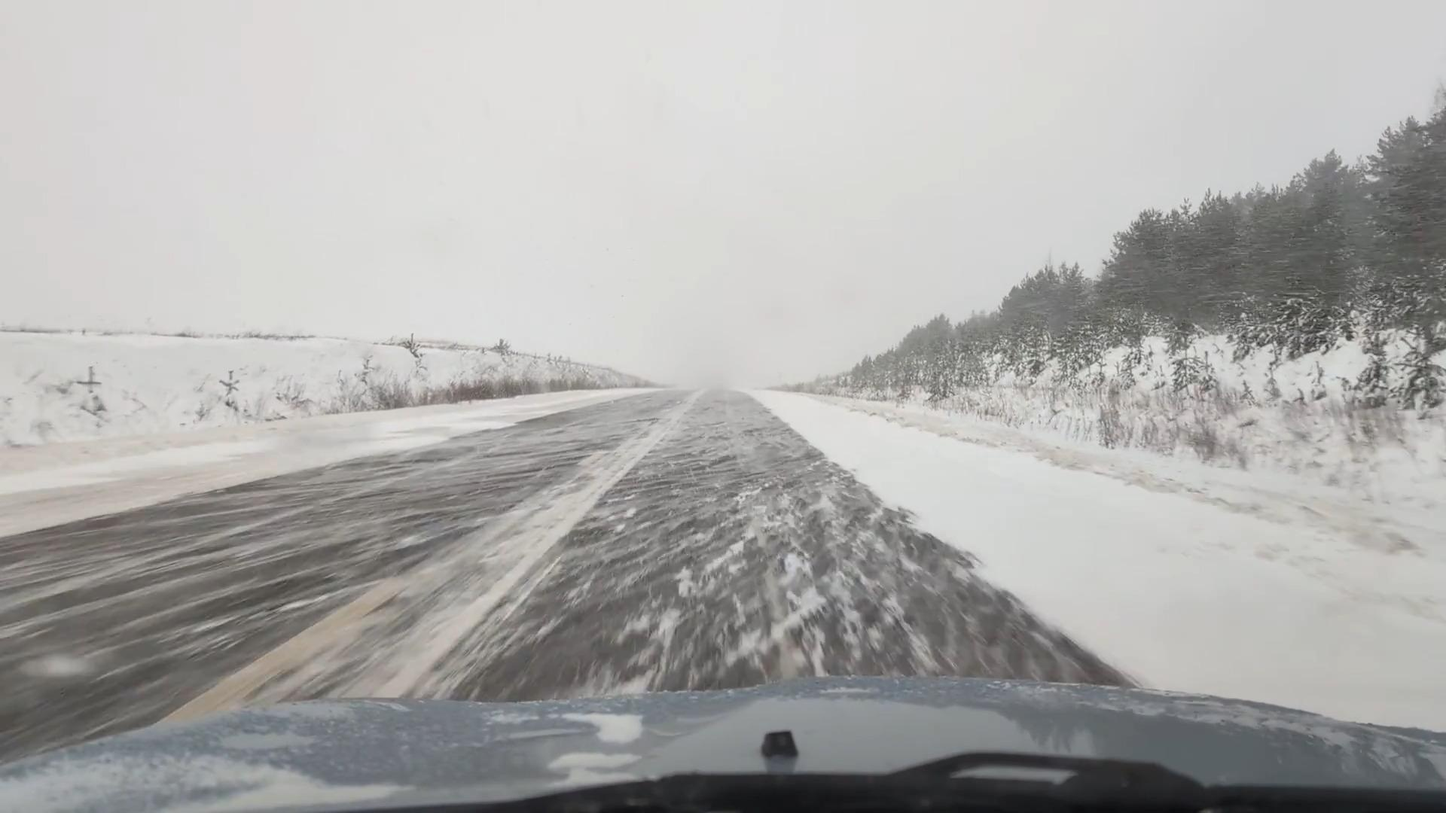Snow: (0, 384, 1143, 759)
